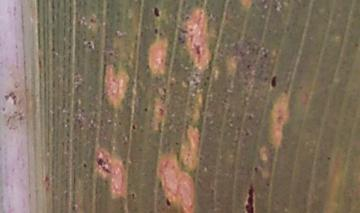tarspot: (241, 183, 259, 213), (93, 156, 113, 176), (192, 41, 205, 68), (268, 73, 280, 91), (150, 5, 162, 20), (262, 177, 272, 193), (162, 195, 174, 208), (242, 60, 254, 73), (172, 137, 183, 150), (128, 121, 139, 133), (150, 25, 162, 36), (128, 189, 138, 202), (180, 12, 193, 22), (259, 50, 270, 61), (140, 104, 151, 114), (47, 45, 59, 54), (324, 153, 334, 163), (143, 62, 153, 72), (69, 202, 78, 213), (87, 17, 98, 26), (119, 155, 127, 167), (201, 74, 214, 81), (80, 159, 89, 169), (105, 49, 115, 58), (242, 128, 251, 138), (245, 112, 255, 121), (251, 164, 261, 172)
